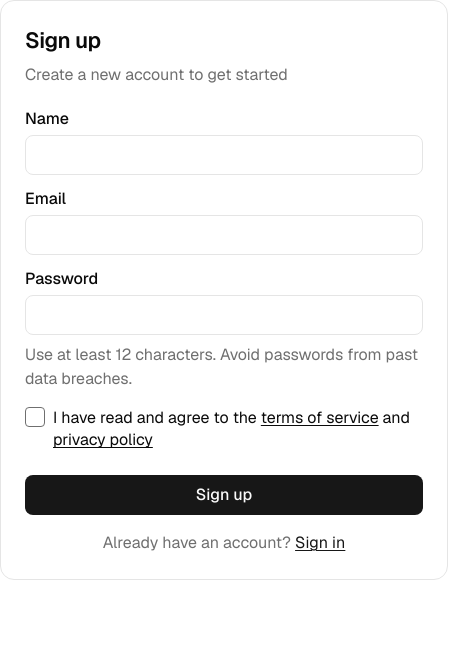
Test: SignUpForm › terms consent (HON-457) › ticking the checkbox clears the consent error (HON-848)
This screenshot has width=465, height=661.
Type "Test User" into the field labelled "Name".
click(224, 155); type("Test User")  # box [25,135,423,175]
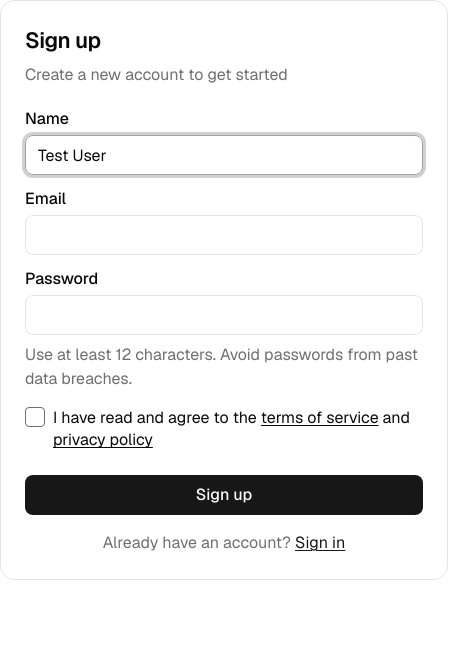
Type "test@example.com" into the field labelled "Email".
click(224, 235); type("test@example.com")  # box [25,215,423,255]
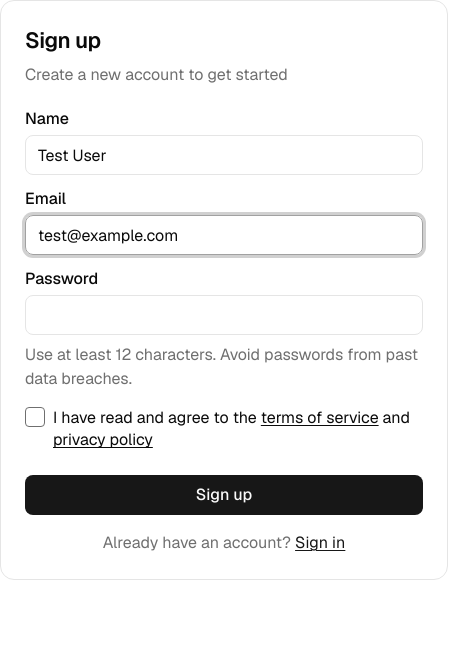
Type "password123" into the password field labelled "Password".
click(224, 315); type("password123")  # box [25,295,423,335]
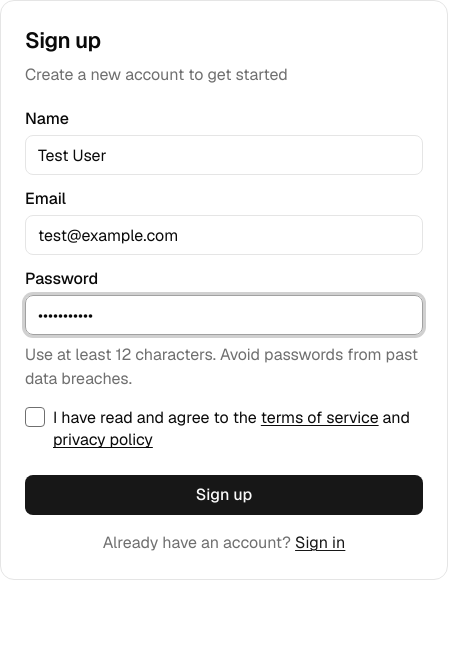
Click the button "Sign up".
click(224, 495)  # box [25,475,423,515]
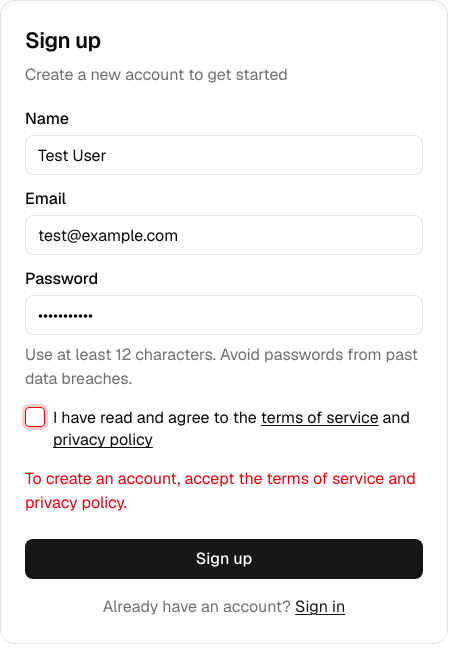
Check: the message "To create an account, accept the terms of service and privacy policy." is shown, box [25,467,423,515]
Click the checkbox named "terms of service".
click(35, 417)  # box [25,407,45,427]
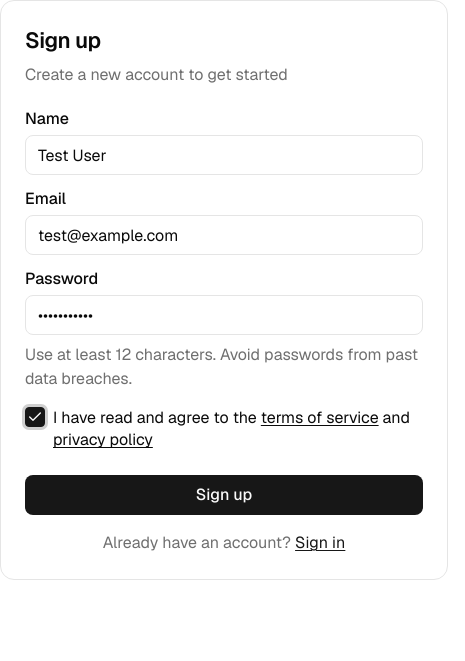
Check: the message "To create an account, accept the terms of service and privacy policy." is gone
